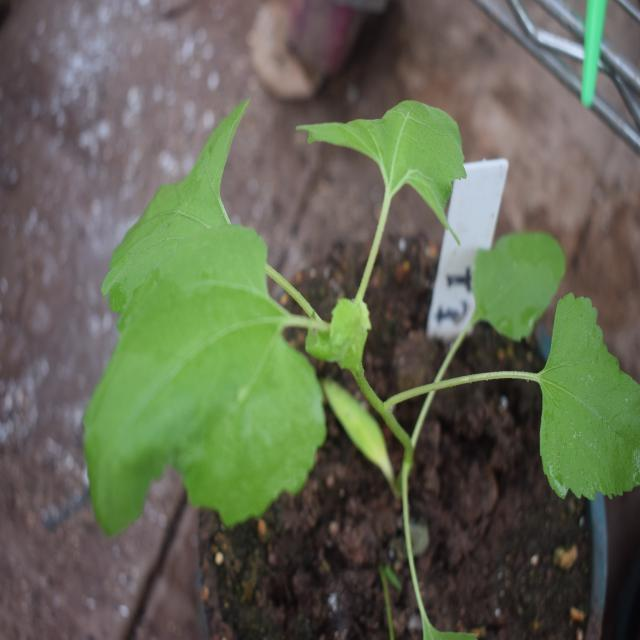cocklebur: (80, 92, 614, 517)
